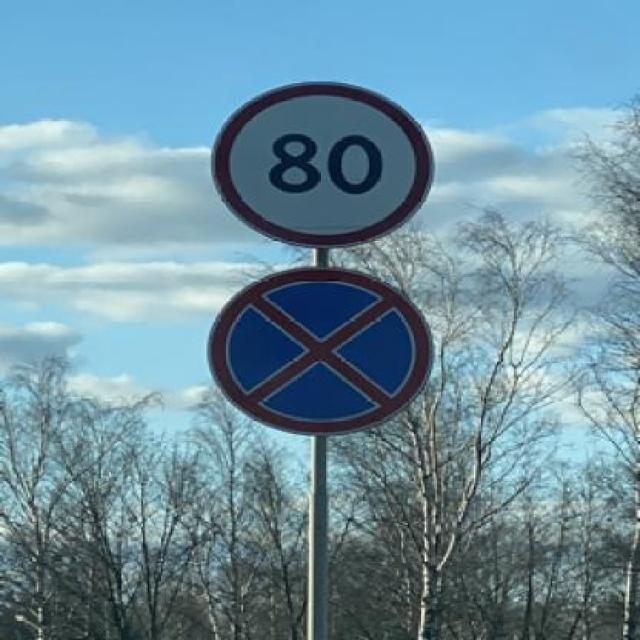forb_speed_over_80: (219, 83, 435, 245)
